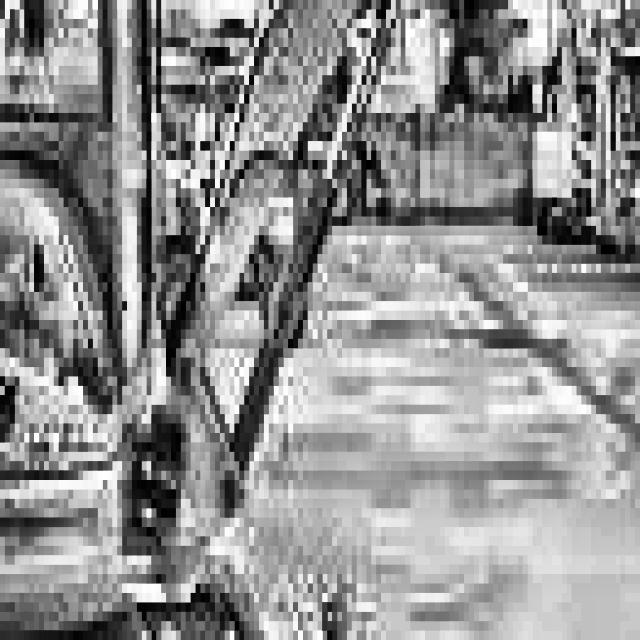excavator: (0, 0, 396, 640)
